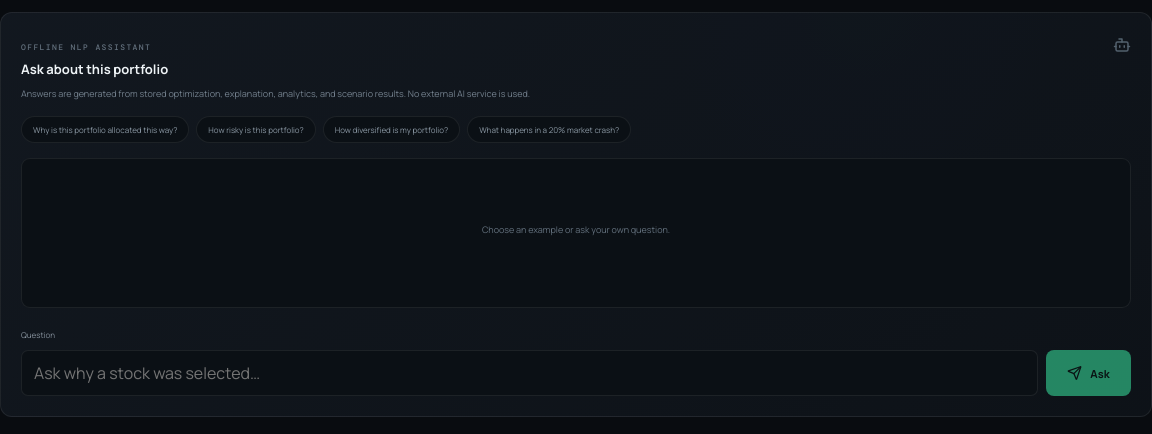
Test case: AssistantPanel › shows backend failures without inventing an answer
The width and height of the screenshot is (1152, 434).
Type "Why this allocation?" into the field labelled "Question".
click(530, 373); type("Why this allocation?")  # box [21,350,1038,396]
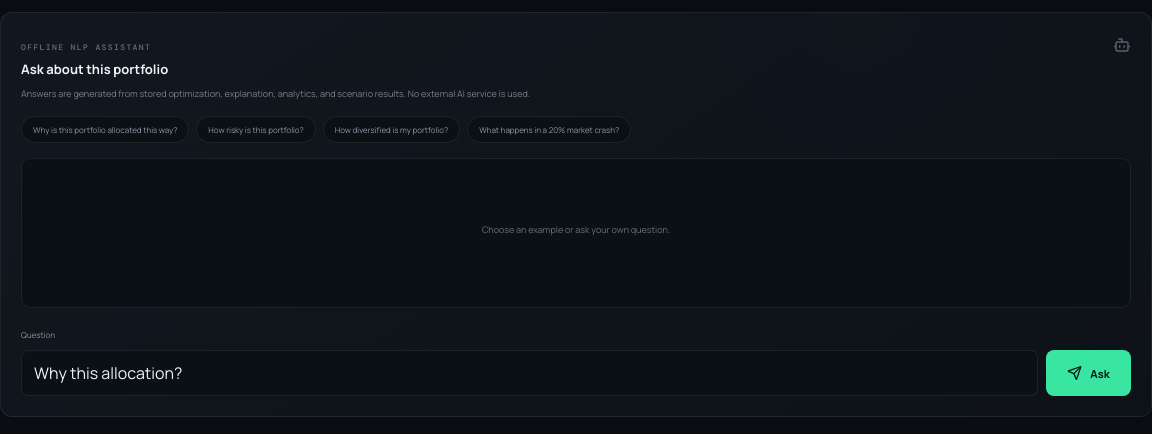
Click the button "Ask".
click(1088, 373)  # box [1046,350,1131,396]
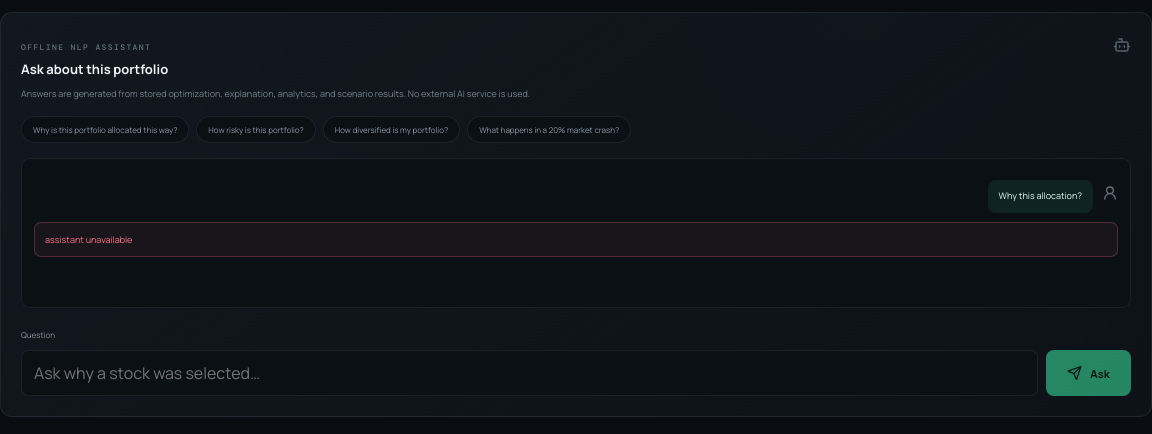
Expected: the message reads "assistant unavailable", [45,233,132,246]
